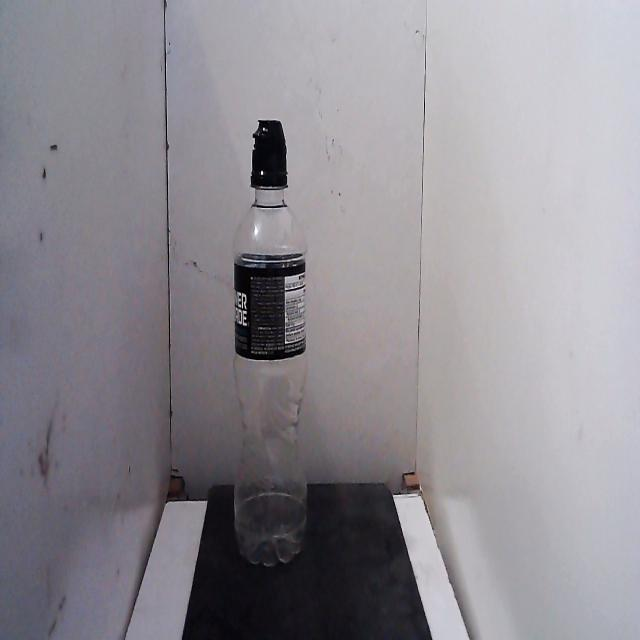plastico: (222, 100, 316, 578)
